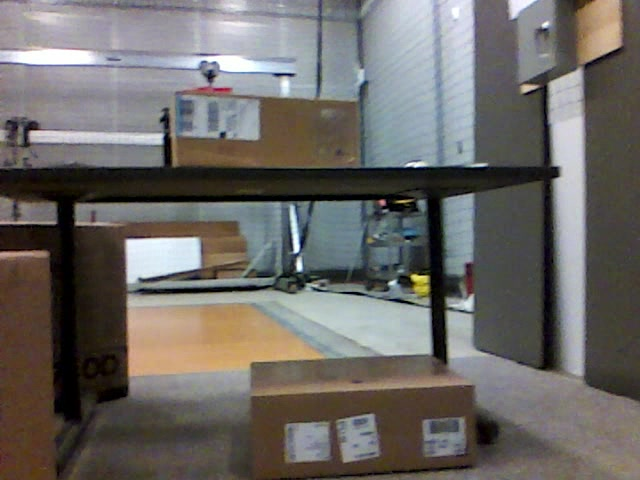box: (251, 362, 479, 477), (170, 94, 362, 167), (1, 252, 53, 480)
